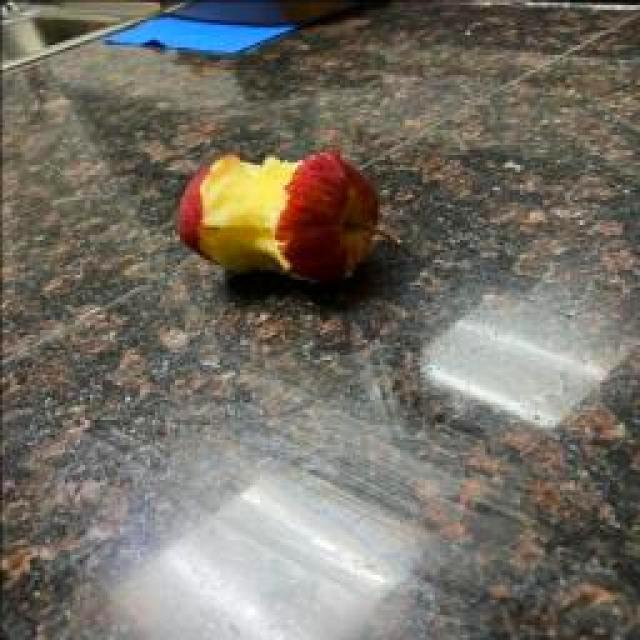Apple: (178, 152, 378, 282)
